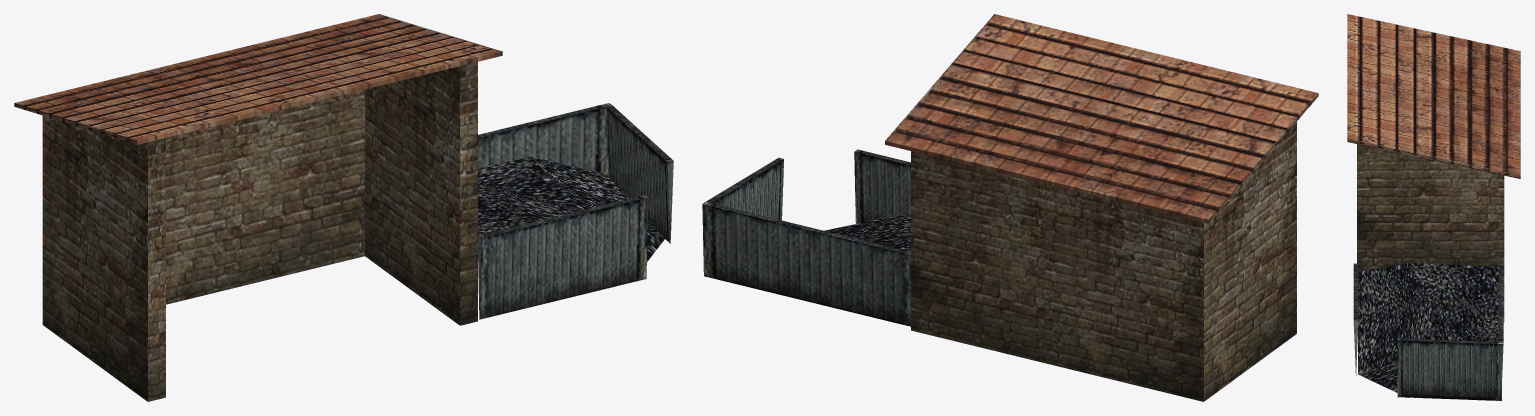
Rendered from barn_annex.glb.
3 views of the same model, side by side, from view 1: azimuth 30°, elevation 25°; view 2: azimuth 150°, elevation 25°; view 3: azimuth 270°, elevation 25° (orthographic). The views are drawn at different scales.
Visible parts, largest first — view 1: barn_annex; view 2: barn_annex; view 3: barn_annex.
Part boxes in pixels (x1,y1,x2,y2): barn_annex: [14, 14, 673, 401]; barn_annex: [702, 14, 1318, 401]; barn_annex: [1347, 14, 1520, 401].
Bounding box in the file's own units: 5.83 × 2.58 × 2.13.
2 materials, 2 textured.
